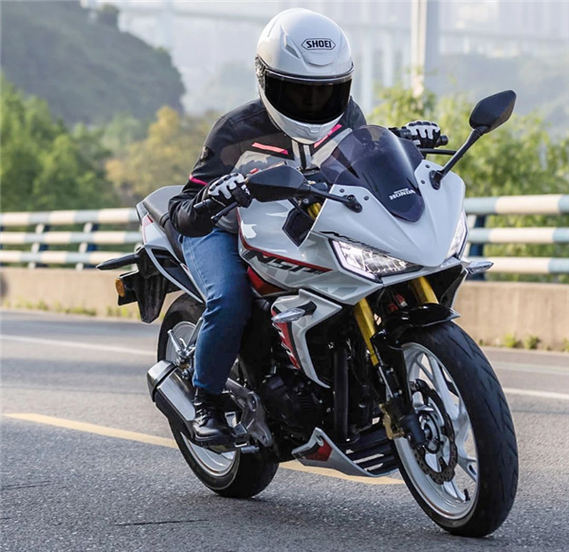摩托车: (117, 125, 525, 535)
